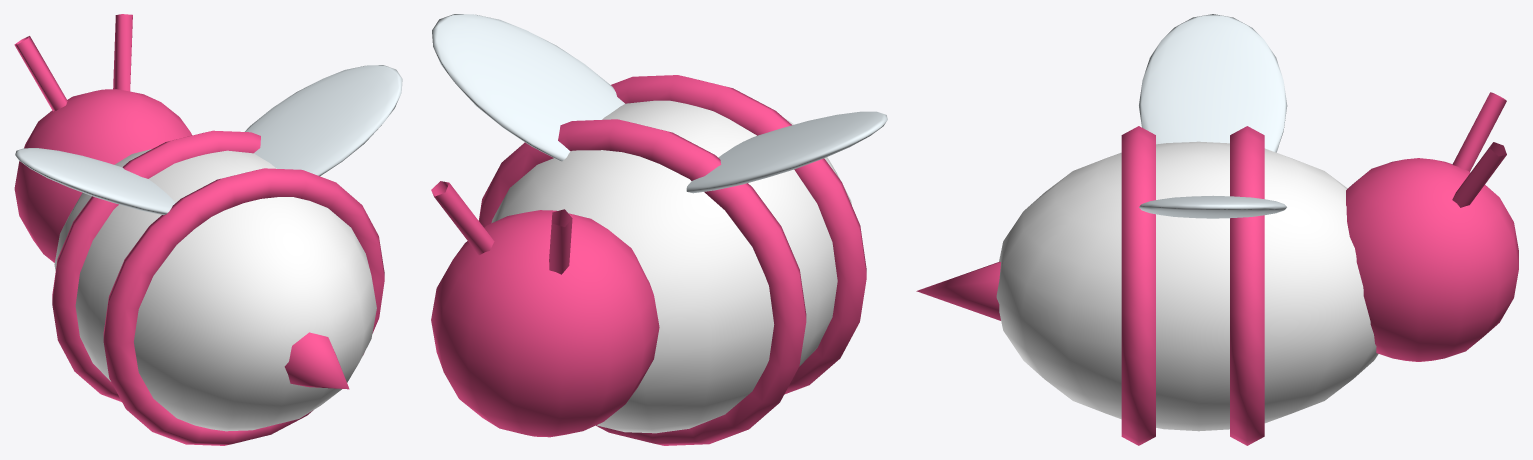
The model's file is Bee.obj.
3 views of the same model, side by side, from view 1: azimuth 30°, elevation 25°; view 2: azimuth 150°, elevation 25°; view 3: azimuth 270°, elevation 25° (orthographic). The views are drawn at different scales.
Visible parts, largest first — view 1: Body, Stripes, Wings; view 2: Stripes, Body, Wings; view 3: Body, Stripes, Wings.
Part boxes in pixels (box(x1,y1,x2,y2)): Body: box(54, 149, 376, 431); Stripes: box(14, 14, 384, 445); Wings: box(15, 65, 402, 214); Stripes: box(431, 75, 866, 445); Body: box(491, 100, 851, 433); Wings: box(432, 14, 887, 193); Body: box(996, 141, 1378, 431); Stripes: box(916, 92, 1518, 445); Wings: box(1139, 14, 1287, 218).
Bounding box in the file's own units: 1.6 × 1.22 × 2.11.
